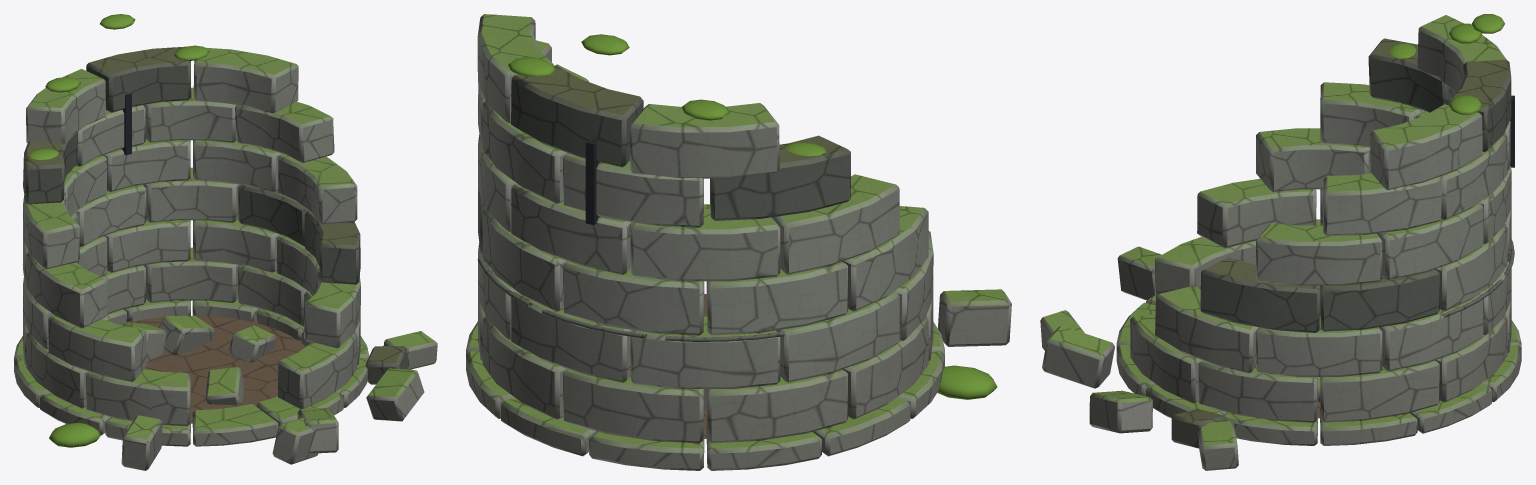
The model's file is stone_tower_stump.glb.
3 views of the same model, side by side, from view 1: azimuth 30°, elevation 25°; view 2: azimuth 150°, elevation 25°; view 3: azimuth 270°, elevation 25° (orthographic). The views are drawn at different scales.
Parts seen in each view (by area): view 1: stone_tower_stump; view 2: stone_tower_stump; view 3: stone_tower_stump.
Boxes of the visible parts, x1,y1,x2,y2 form: stone_tower_stump: [14, 14, 437, 470]; stone_tower_stump: [466, 14, 1011, 470]; stone_tower_stump: [1040, 14, 1521, 470].
Size of the model in its own units: 5.85 by 4.65 by 5.74.
5 materials, 5 textured.
